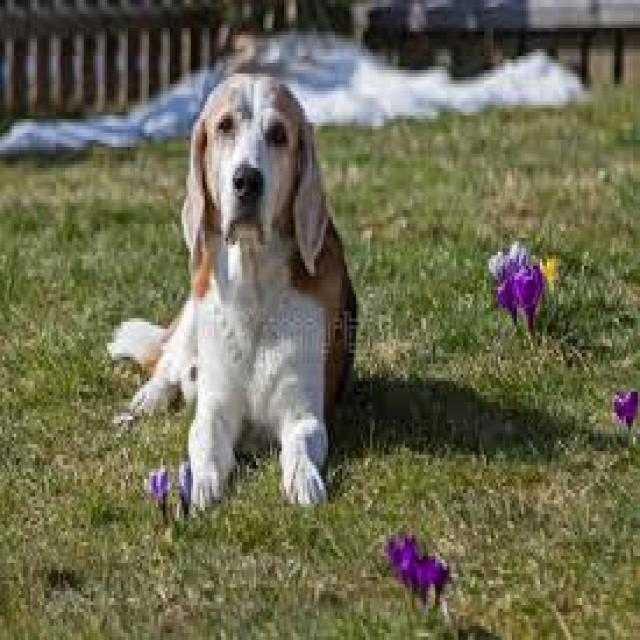Dog: (101, 66, 363, 519)
